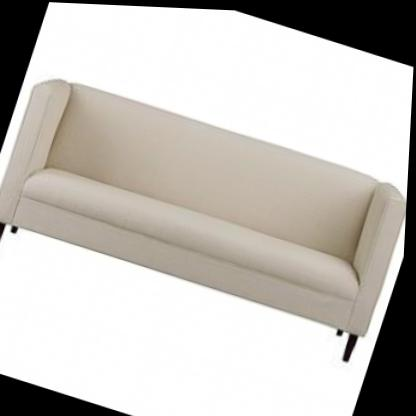Sofa: (0, 68, 413, 365)
